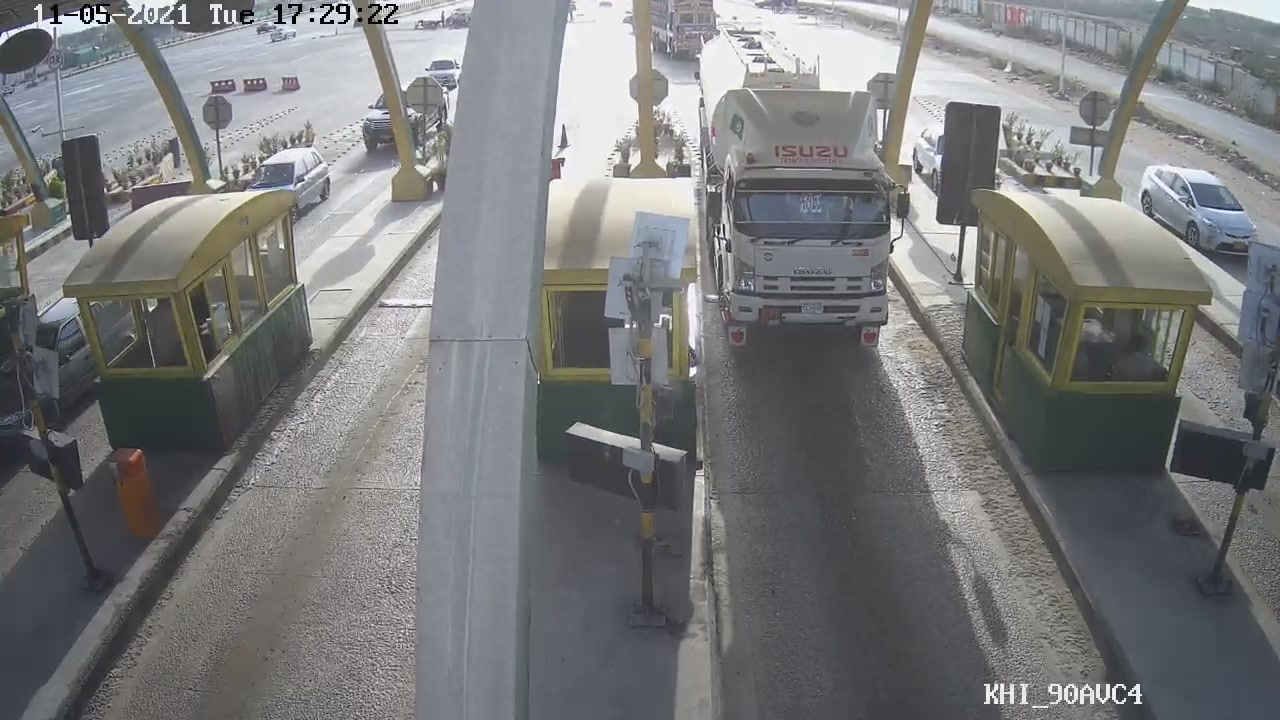F6: (685, 24, 896, 353)
